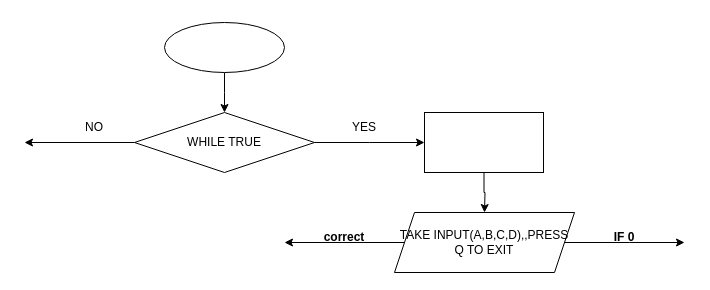
The diagram is 710 pixels wide and 290 high, and some of its shapes have lost their labels. The shapes that lost their labels are listed below. From the top down, each one's box as (x1, y1, x2, y2) in pixels, then its label:
(164, 22, 284, 72): START
(424, 112, 544, 172): DISPLAY QUESTION
